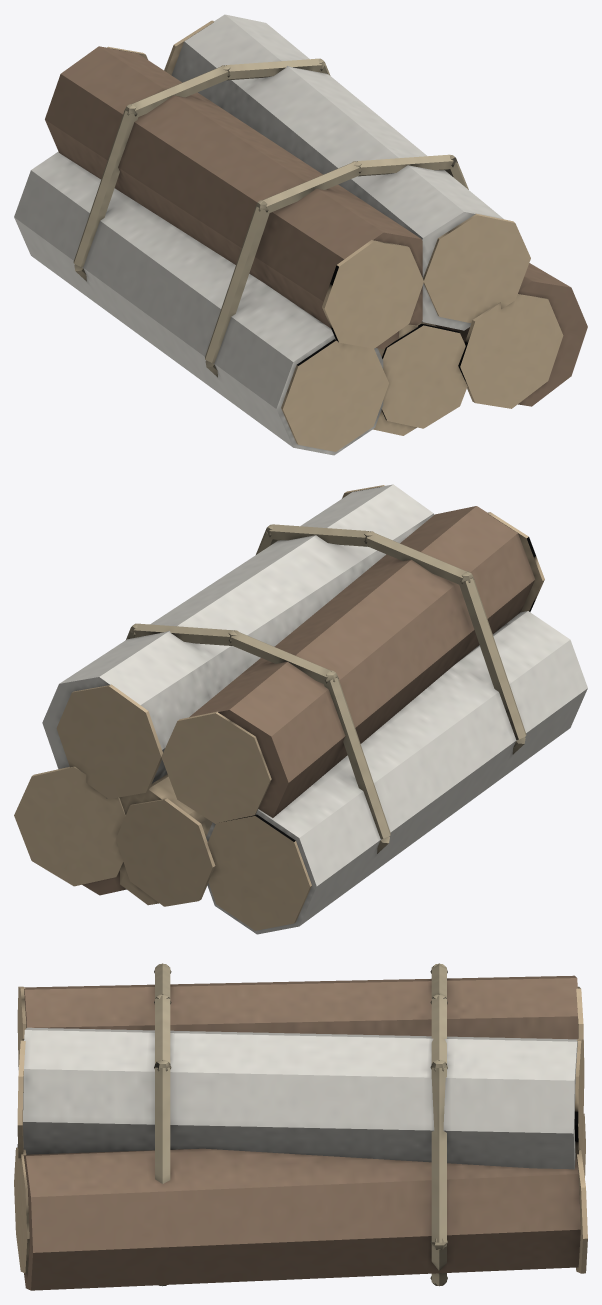
The model's file is firewood_bundle.glb.
The picture shows the model from 3 angles, top to bottom: view 1: azimuth 30°, elevation 25°; view 2: azimuth 150°, elevation 25°; view 3: azimuth 270°, elevation 25°; orthographic projection. The views are drawn at different scales.
Parts seen in each view (by area): view 1: firewood_bundle; view 2: firewood_bundle; view 3: firewood_bundle.
Boxes of the visible parts, x1,y1,x2,y2 form: firewood_bundle: (14,14,587,455); firewood_bundle: (14,484,587,934); firewood_bundle: (14,963,587,1290).
Bounding box in the file's own units: 0.3112 × 0.214 × 0.4566.
Materials: 1 (1 with a texture image).
